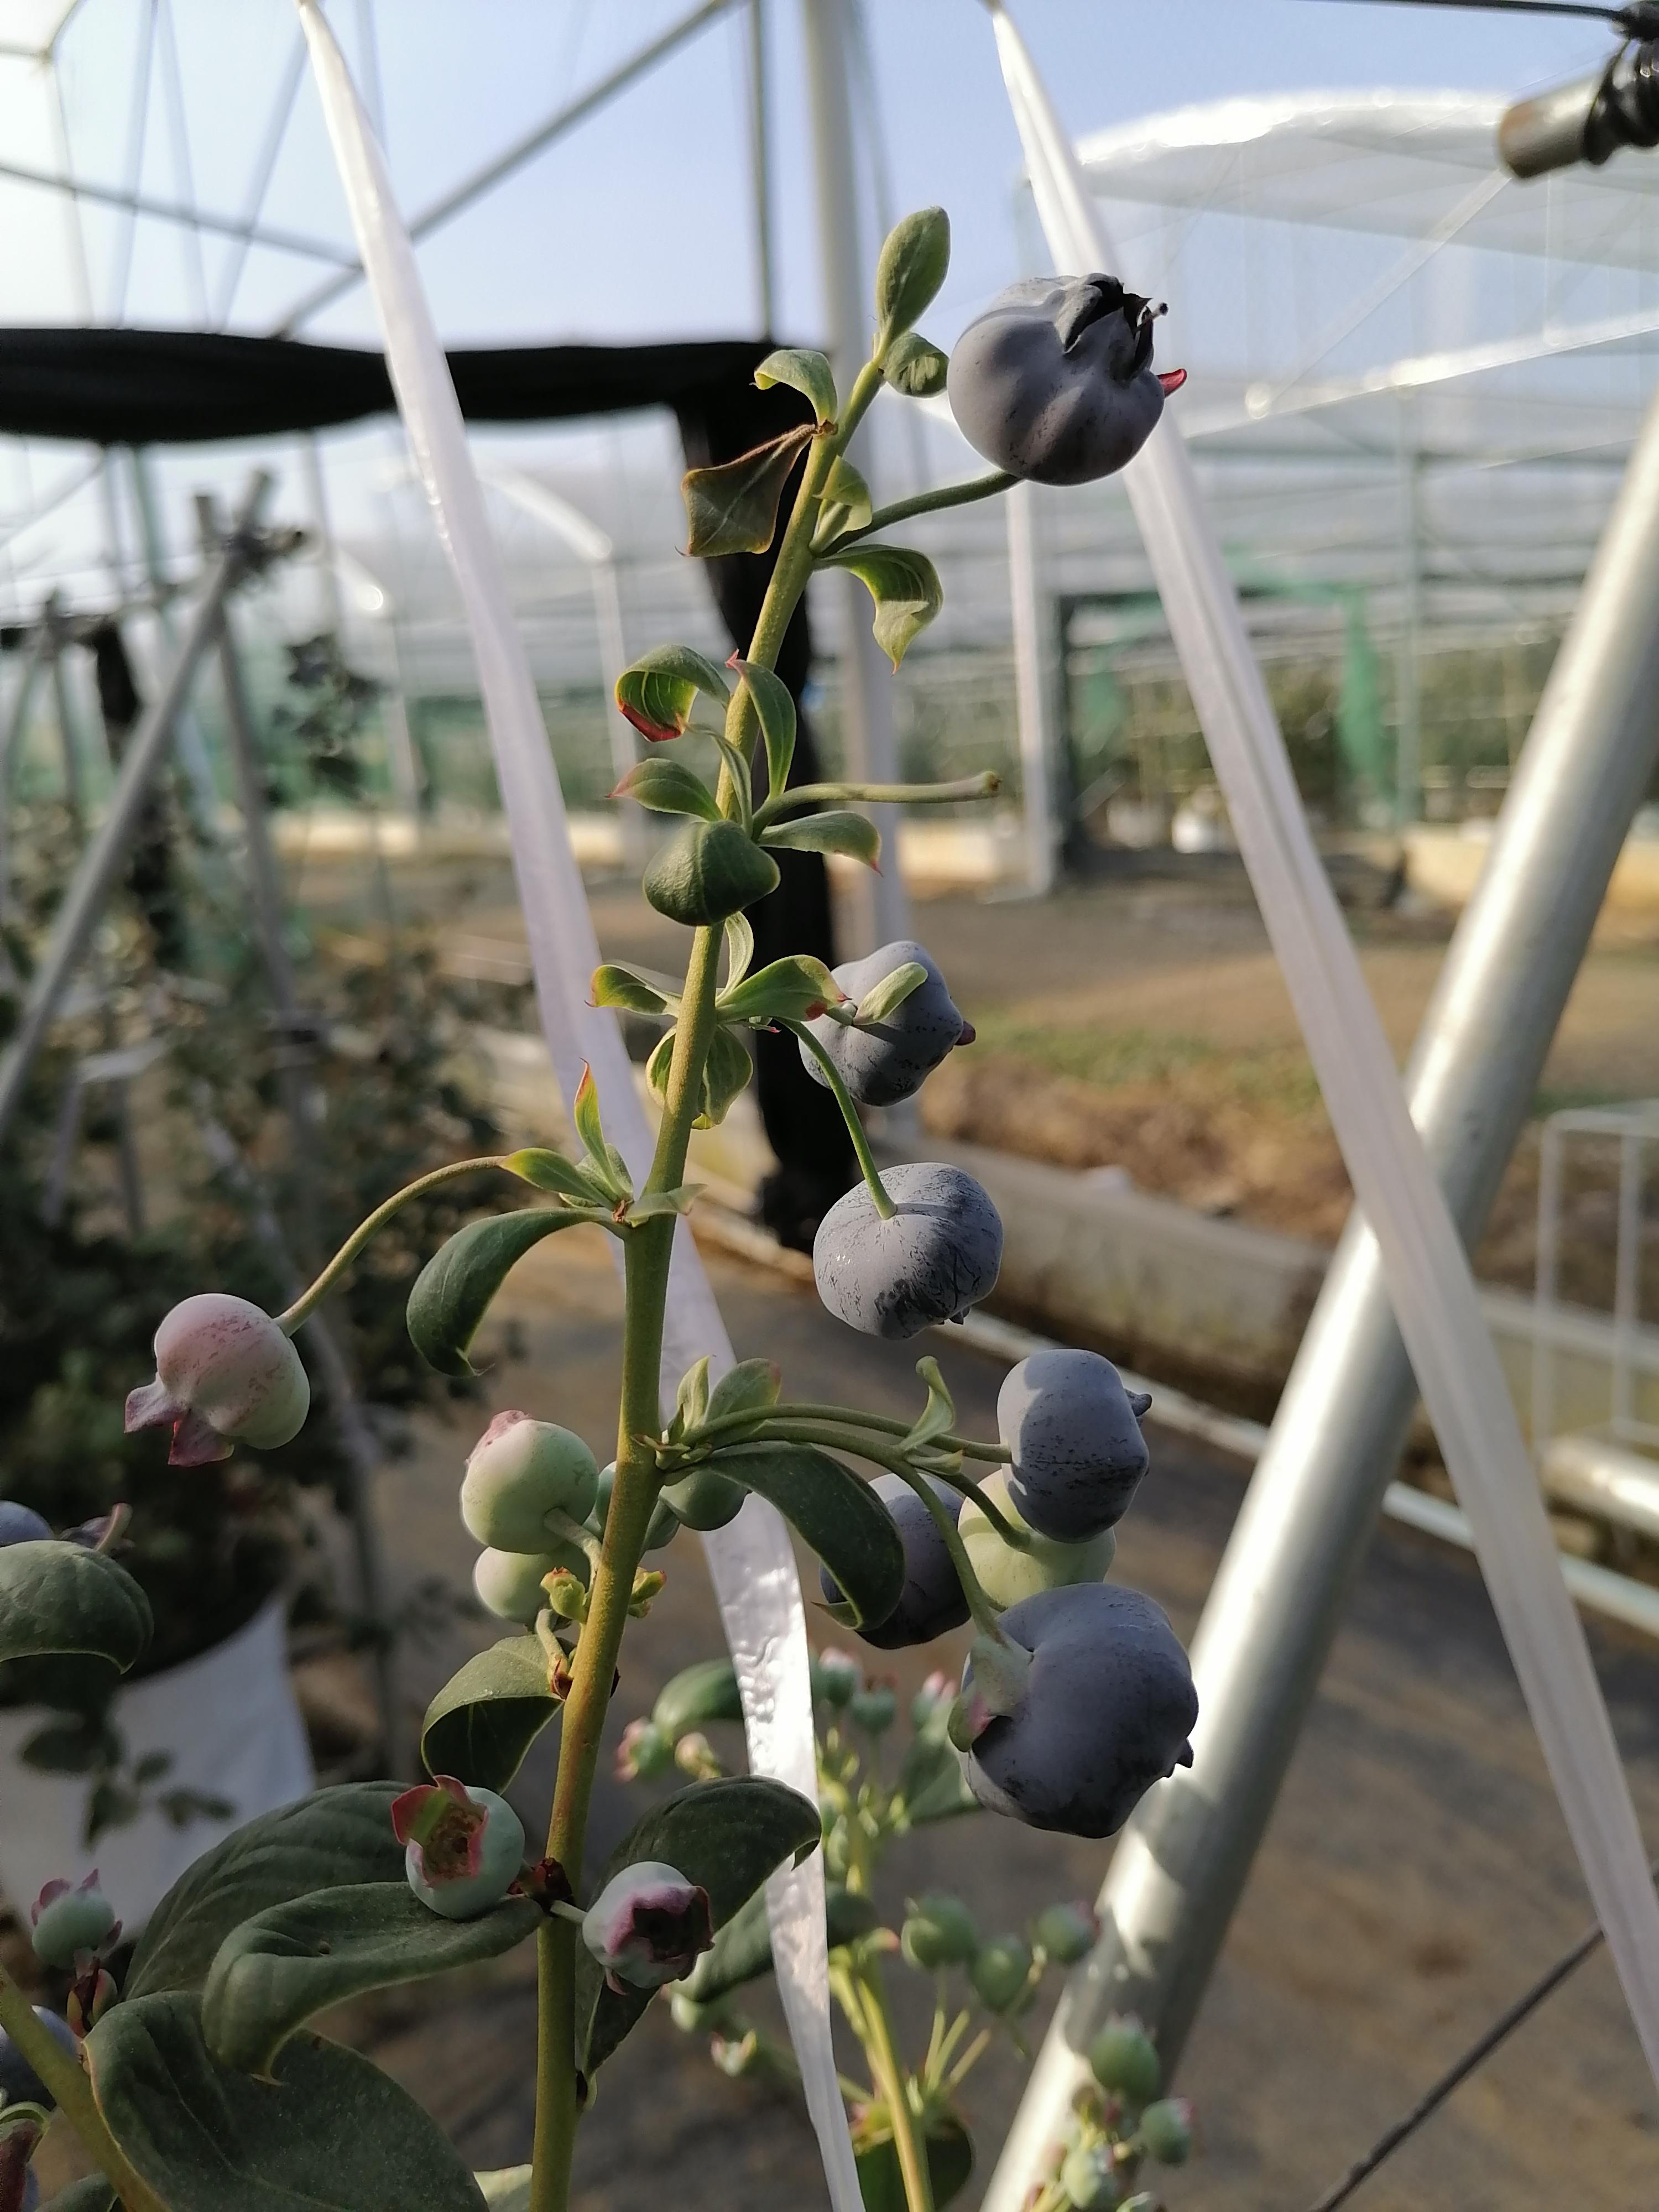ripe-blueberries: (950, 1581, 1201, 1839), (945, 273, 1166, 486), (809, 1162, 1007, 1345), (997, 1346, 1154, 1547), (795, 941, 974, 1109), (821, 1468, 985, 1651)
